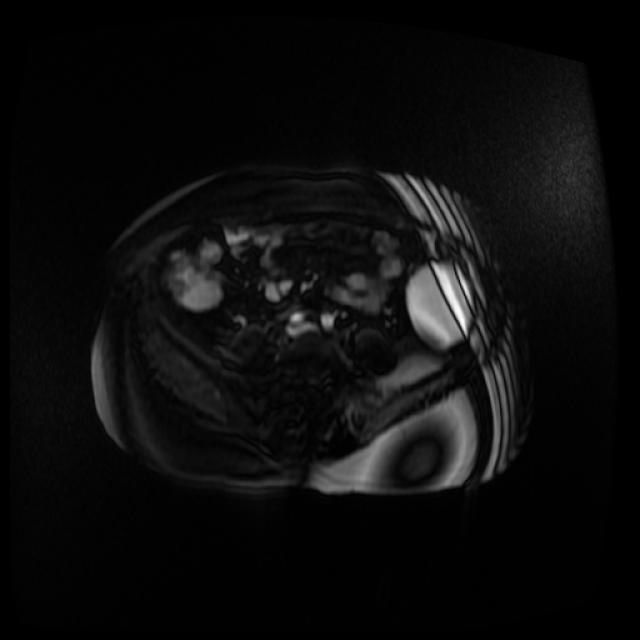sol: (404, 260, 478, 354)
